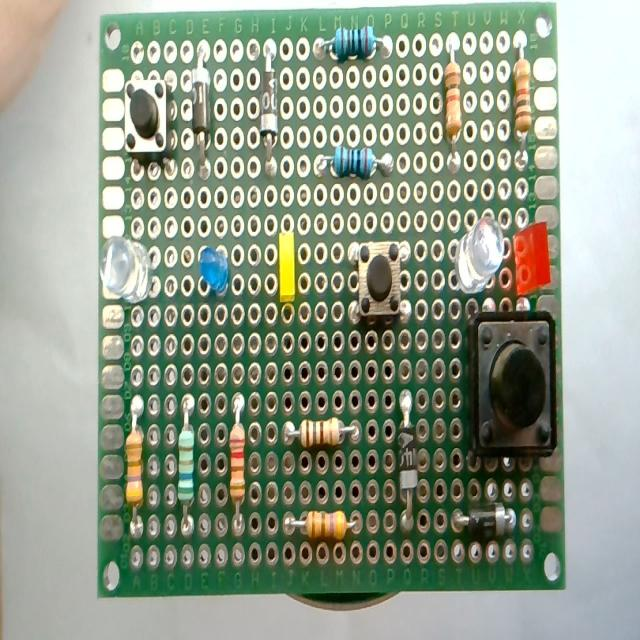diode: (397, 389, 418, 526), (314, 25, 392, 61), (259, 47, 279, 177), (191, 51, 211, 178), (454, 504, 516, 536)
led: (452, 214, 505, 294), (99, 235, 156, 305), (514, 218, 552, 296), (198, 245, 230, 298), (278, 230, 296, 303)
resistor: (178, 389, 200, 539), (124, 397, 144, 535), (228, 392, 247, 533), (316, 146, 392, 180), (285, 511, 358, 541), (285, 419, 359, 447), (445, 44, 461, 170), (513, 43, 531, 151)
switch: (464, 311, 558, 458), (353, 241, 408, 326), (124, 78, 170, 158)
